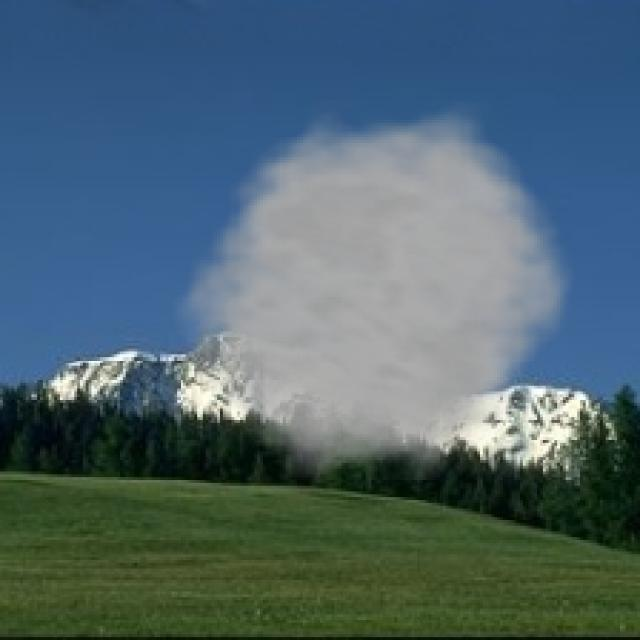smoke: (166, 97, 583, 480)
